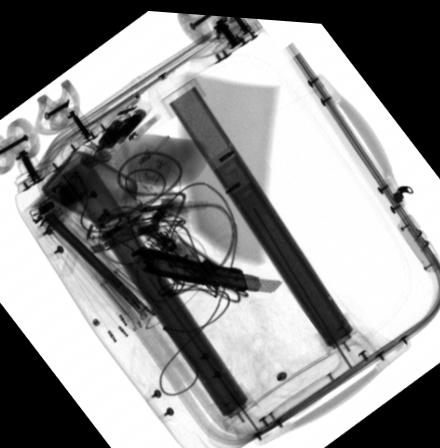Knife: (127, 244, 283, 288)
